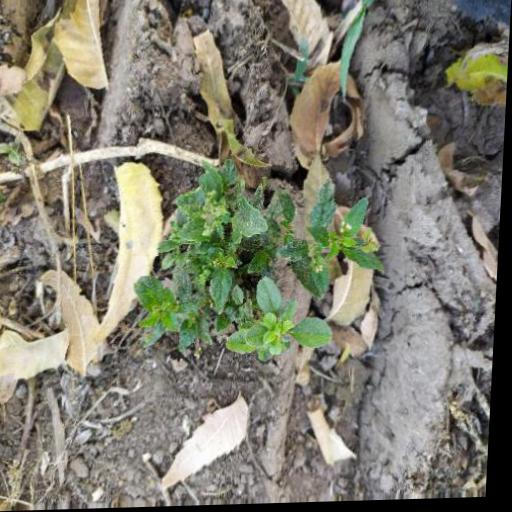weed: (125, 162, 398, 376)
